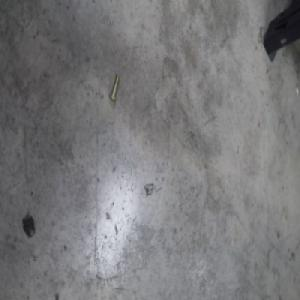Bolt: (108, 73, 119, 104)
